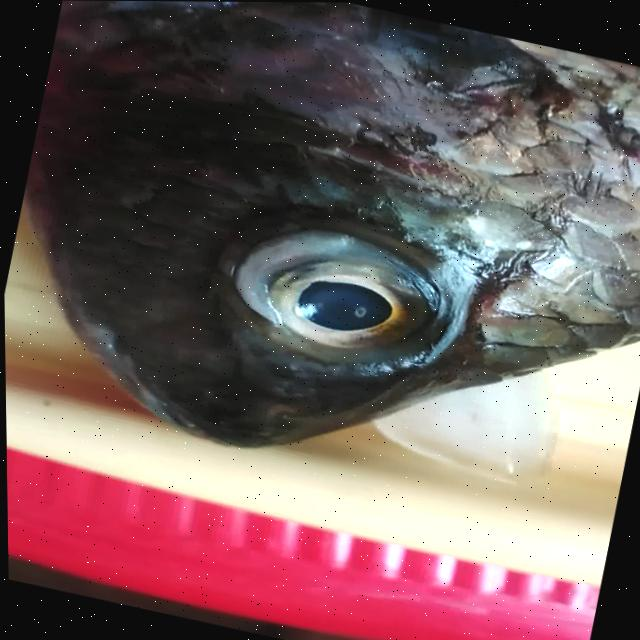Fresh: (209, 200, 479, 421)
